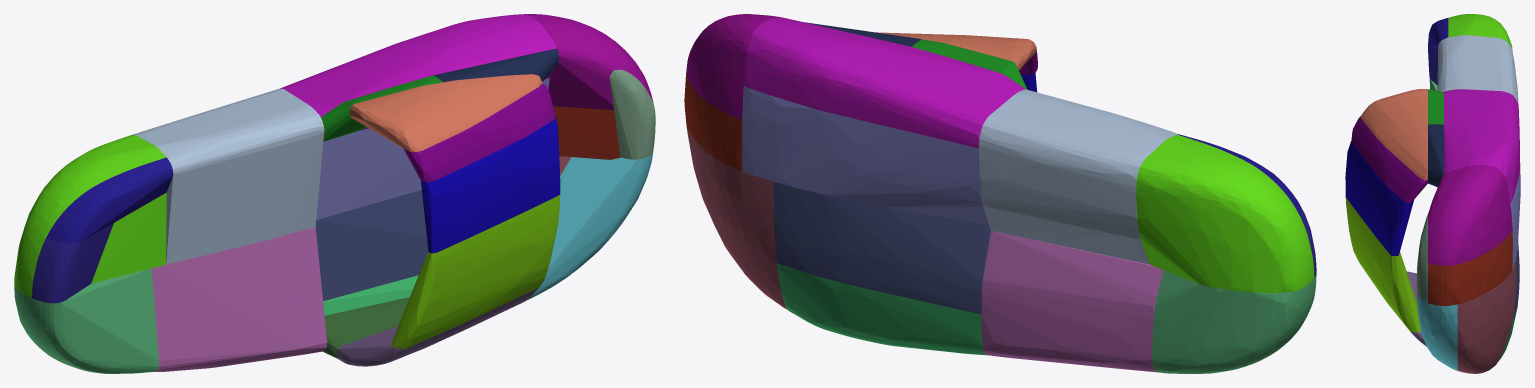
Rendered from coacd_collision.obj.
3 views of the same model, side by side, from view 1: azimuth 30°, elevation 25°; view 2: azimuth 150°, elevation 25°; view 3: azimuth 270°, elevation 25° (orthographic). The views are drawn at different scales.
Visible parts, largest first — view 1: geometry_6, geometry_7, geometry_4, geometry_3, geometry_22, geometry_17, geometry_5, geometry_16, geometry_9, geometry_2, geometry_12, geometry_14 (+10 smaller); view 2: geometry_6, geometry_17, geometry_22, geometry_7, geometry_12, geometry_16, geometry_3, geometry_10, geometry_13, geometry_14, geometry_15, geometry_9 (+3 smaller); view 3: geometry_14, geometry_22, geometry_13, geometry_6, geometry_9, geometry_5, geometry_4, geometry_15, geometry_11, geometry_2, geometry_17, geometry_21 (+7 smaller).
Part boxes in pixels (box(x1,y1,x2,y2)): geometry_6: box(132, 88, 324, 264); geometry_7: box(151, 227, 327, 371); geometry_4: box(391, 194, 560, 348); geometry_3: box(14, 268, 158, 373); geometry_22: box(280, 14, 556, 131); geometry_17: box(14, 135, 166, 297); geometry_5: box(421, 117, 560, 253); geometry_16: box(315, 190, 428, 300); geometry_9: box(349, 74, 542, 151); geometry_2: box(527, 151, 653, 299); geometry_12: box(316, 78, 549, 219); geometry_14: box(525, 14, 652, 110); geometry_6: box(979, 89, 1179, 264); geometry_17: box(1136, 134, 1314, 292); geometry_22: box(744, 17, 1025, 148); geometry_7: box(981, 231, 1163, 372); geometry_12: box(742, 86, 988, 224); geometry_16: box(774, 182, 990, 314); geometry_3: box(1152, 270, 1316, 373); geometry_10: box(776, 263, 987, 355); geometry_13: box(686, 127, 787, 309); geometry_14: box(686, 14, 781, 120); geometry_15: box(684, 72, 742, 171); geometry_9: box(876, 32, 1036, 70); geometry_14: box(1428, 165, 1512, 265); geometry_22: box(1444, 89, 1519, 202); geometry_13: box(1457, 259, 1516, 373); geometry_6: box(1437, 35, 1518, 106); geometry_9: box(1361, 89, 1427, 180); geometry_5: box(1345, 140, 1413, 256); geometry_4: box(1345, 197, 1420, 332); geometry_15: box(1428, 230, 1512, 305); geometry_11: box(1351, 116, 1427, 202); geometry_2: box(1417, 295, 1457, 370); geometry_17: box(1448, 14, 1512, 50); geometry_21: box(1428, 124, 1443, 187).
Bounding box in the file's own units: 248 × 106 × 75.79.
